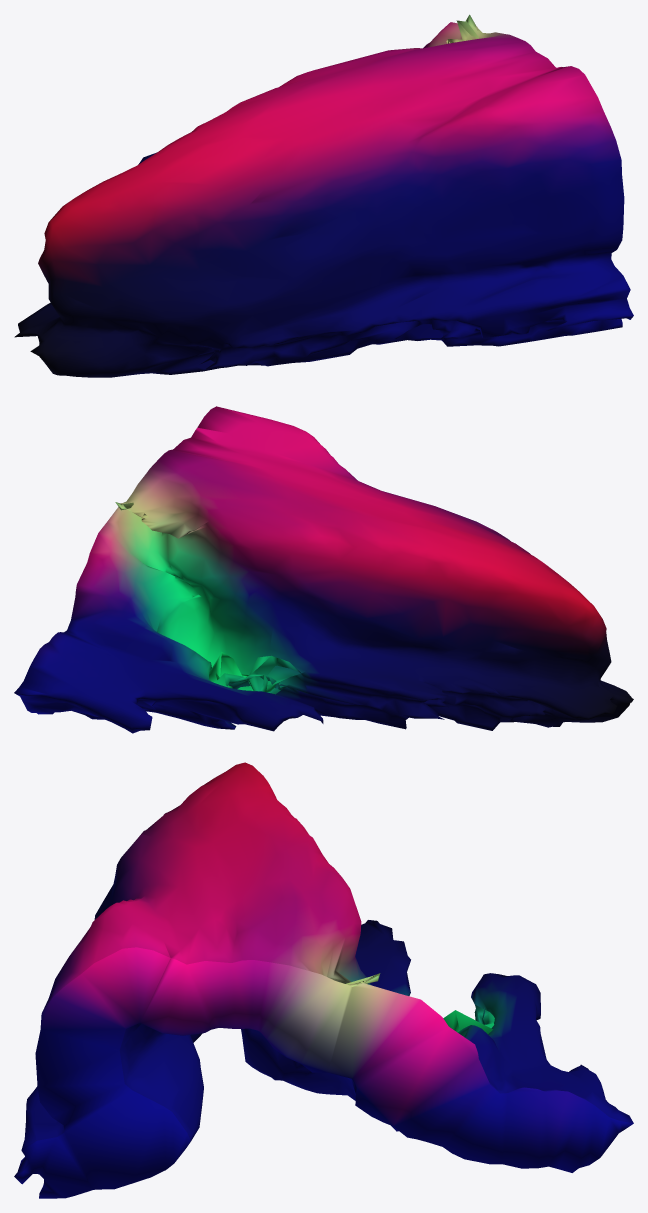
File: copper_vein-u2-cracked-lod0.gltf
The picture shows the model from 3 angles, top to bottom: view 1: azimuth 30°, elevation 25°; view 2: azimuth 150°, elevation 25°; view 3: azimuth 270°, elevation 25°; orthographic projection. The views are drawn at different scales.
Parts seen in each view (by area): view 1: copper_vein-u2-cracked-lod0; view 2: copper_vein-u2-cracked-lod0; view 3: copper_vein-u2-cracked-lod0.
Part boxes in pixels (box(x1,y1,x2,y2)): copper_vein-u2-cracked-lod0: box(14, 14, 633, 377); copper_vein-u2-cracked-lod0: box(14, 406, 633, 733); copper_vein-u2-cracked-lod0: box(14, 762, 633, 1198).
Size of the model in its own units: 0.6303 by 0.2654 by 0.5934.
